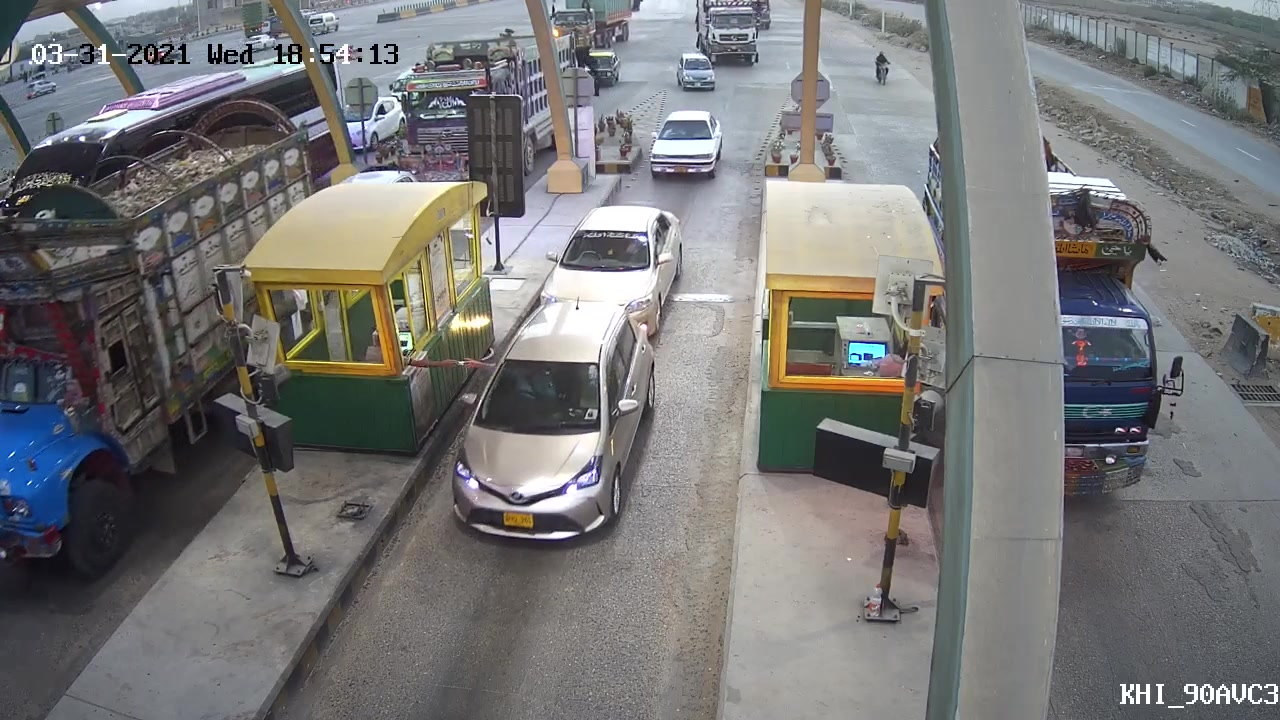F1: (431, 296, 663, 551), (540, 205, 689, 325), (630, 102, 733, 186)
